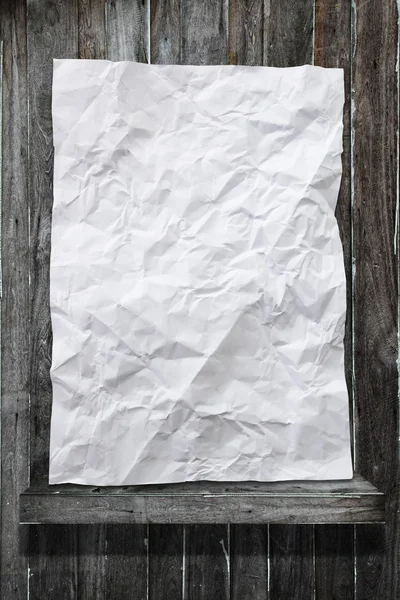page: (53, 67, 347, 479)
